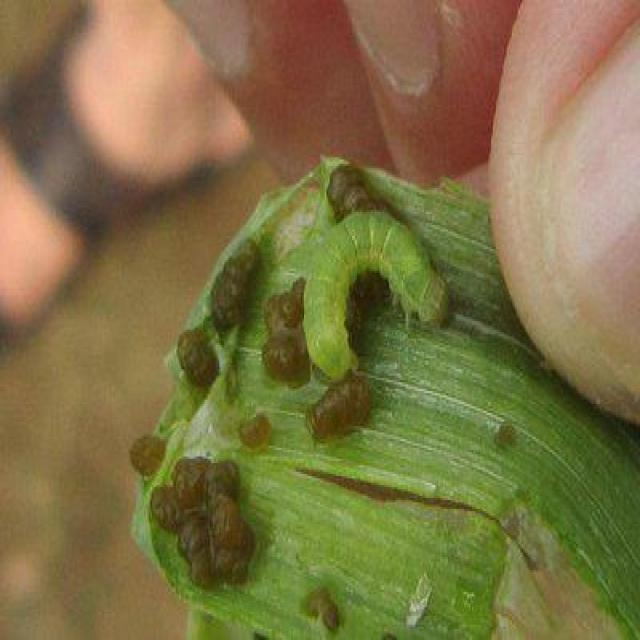BeetArmyWorm-Larva-: (300, 208, 456, 388)
